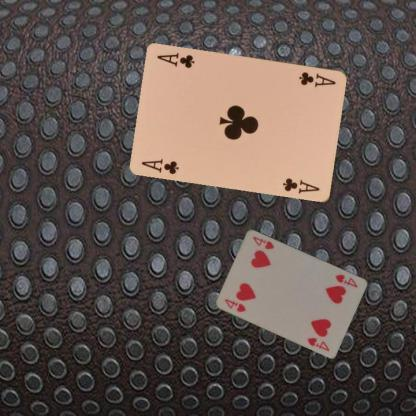4h: (332, 271, 359, 289), (221, 296, 247, 314)
Ac: (296, 68, 338, 88), (139, 156, 180, 176)
